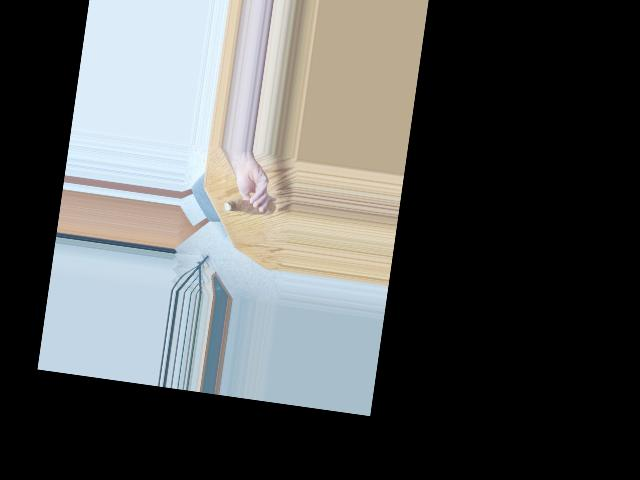sweet_potato: (221, 198, 267, 215)
